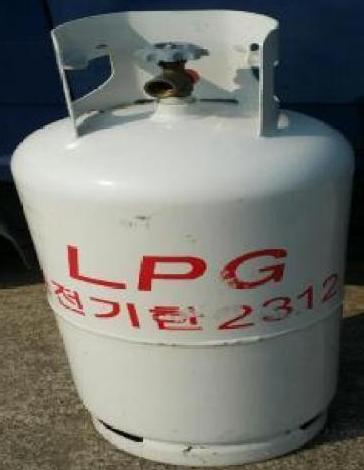cylinder: (1, 1, 364, 470)
